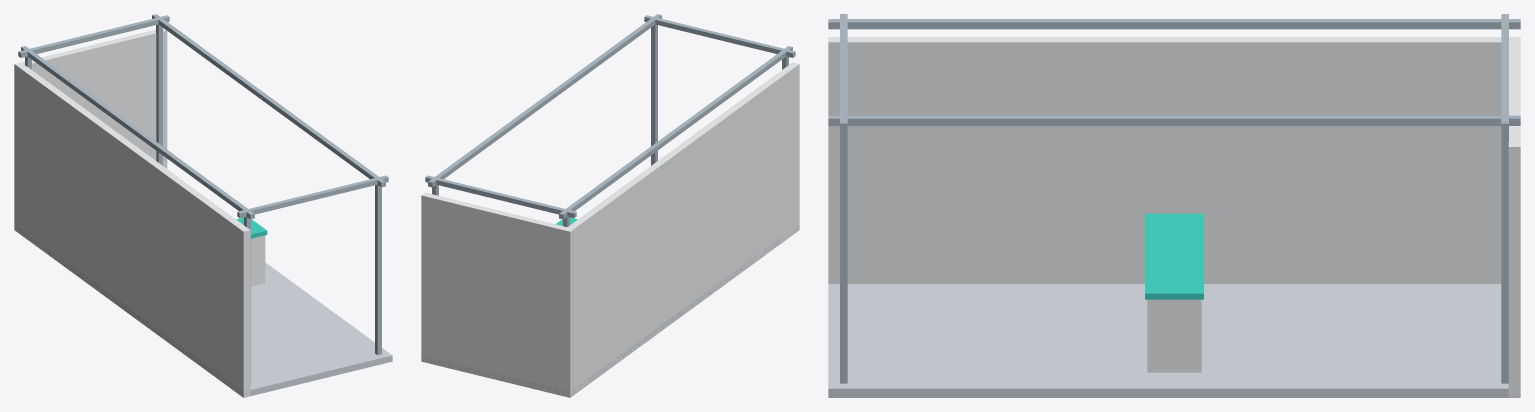
3 views of the same model, side by side, from view 1: azimuth 30°, elevation 25°; view 2: azimuth 150°, elevation 25°; view 3: azimuth 270°, elevation 25° (orthographic). The views are drawn at different scales.
Visible parts, largest first — view 1: Exhibition Booth Concept; view 2: Exhibition Booth Concept; view 3: Exhibition Booth Concept.
Part boxes in pixels (x1,y1,x2,y2): Exhibition Booth Concept: (14,14,392,397); Exhibition Booth Concept: (421,14,799,397); Exhibition Booth Concept: (828,14,1520,397).
Size of the model in its own units: 3 by 3.49 by 8.
